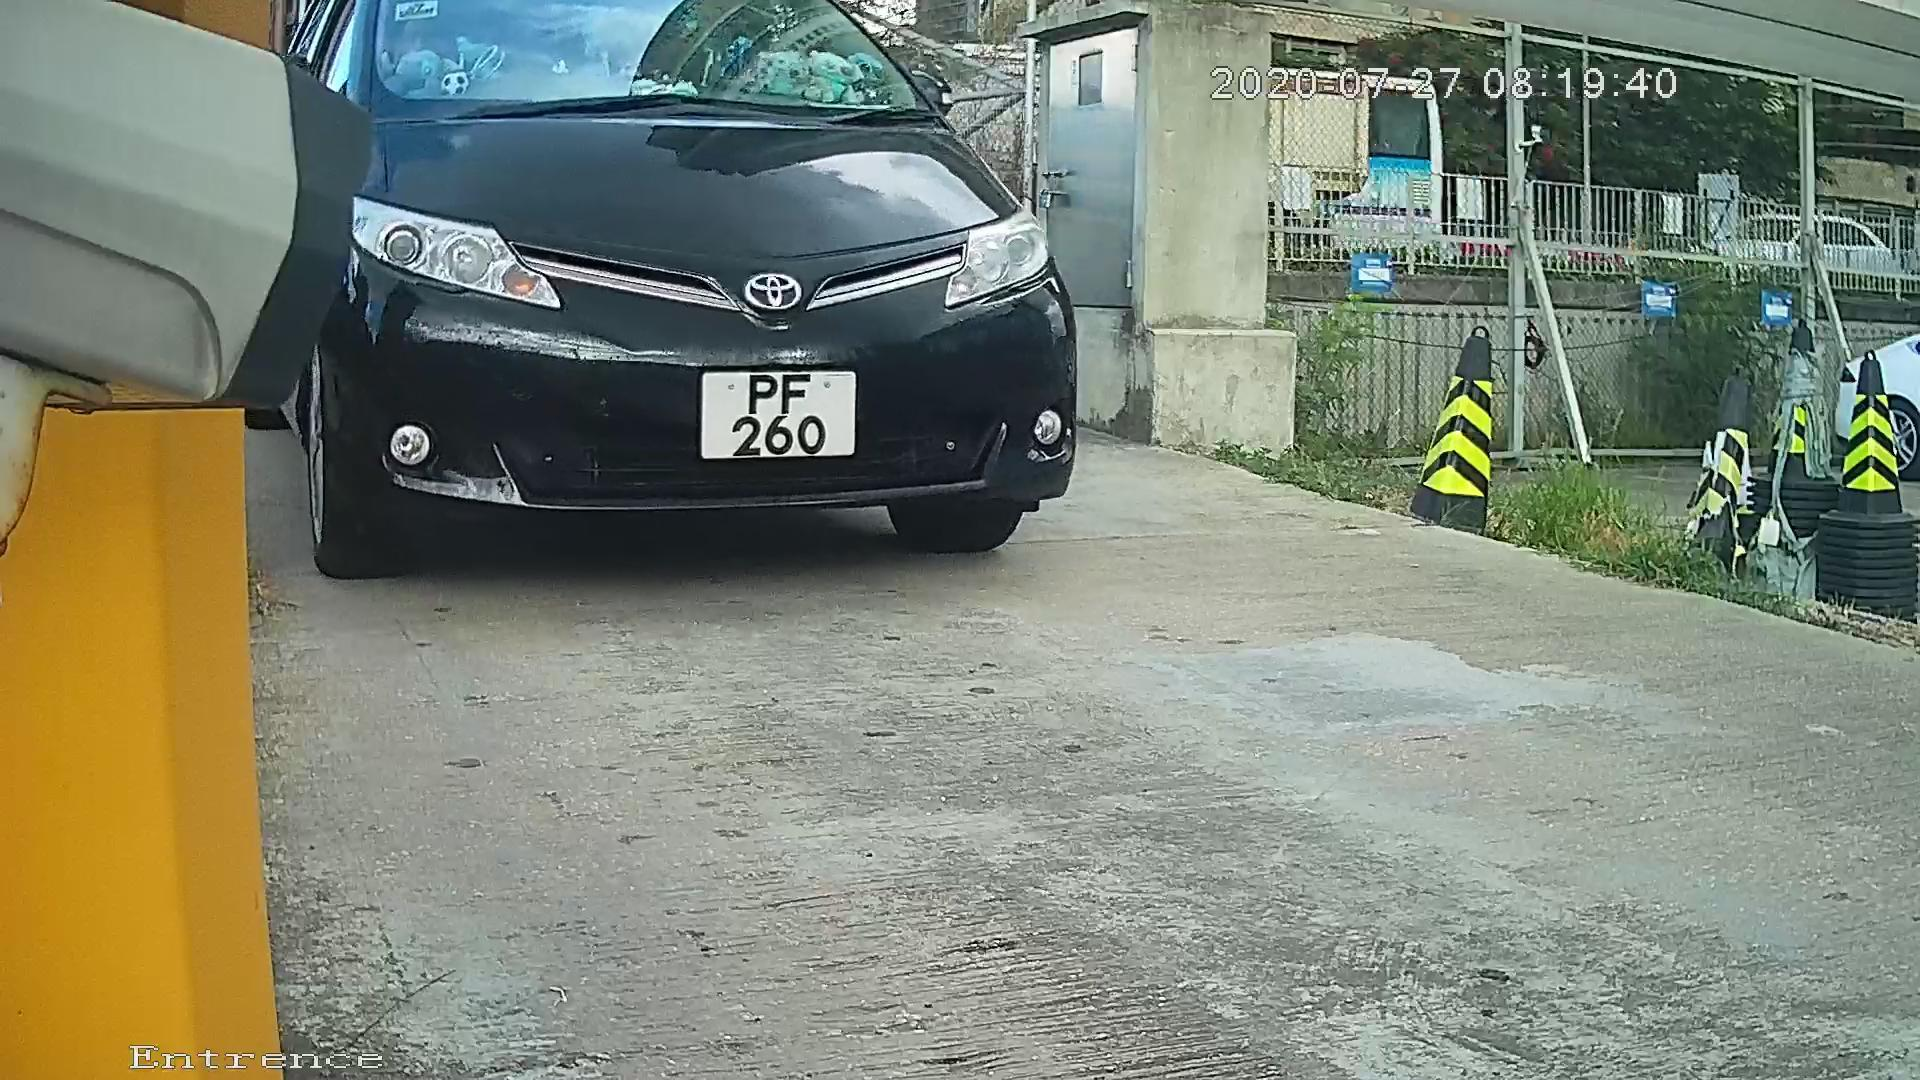License Plate: (661, 352, 887, 479)
